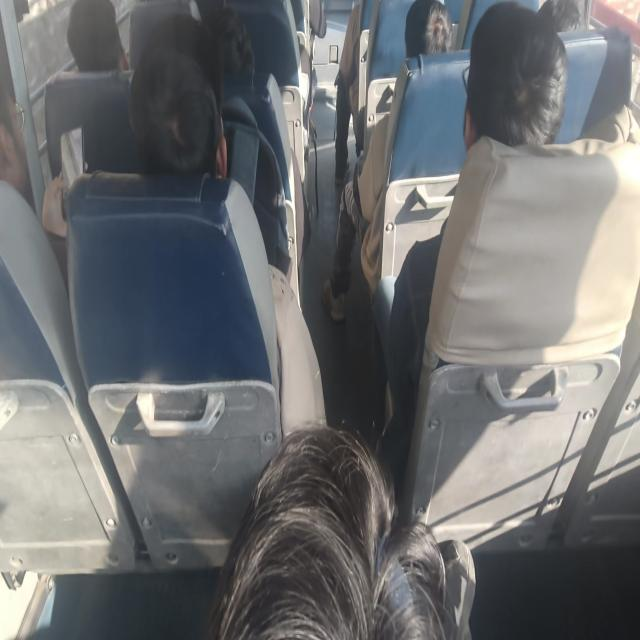person: (233, 416, 510, 640), (462, 31, 536, 183), (135, 49, 219, 182), (50, 0, 126, 86), (205, 11, 271, 102), (0, 83, 49, 205), (404, 0, 459, 71)
